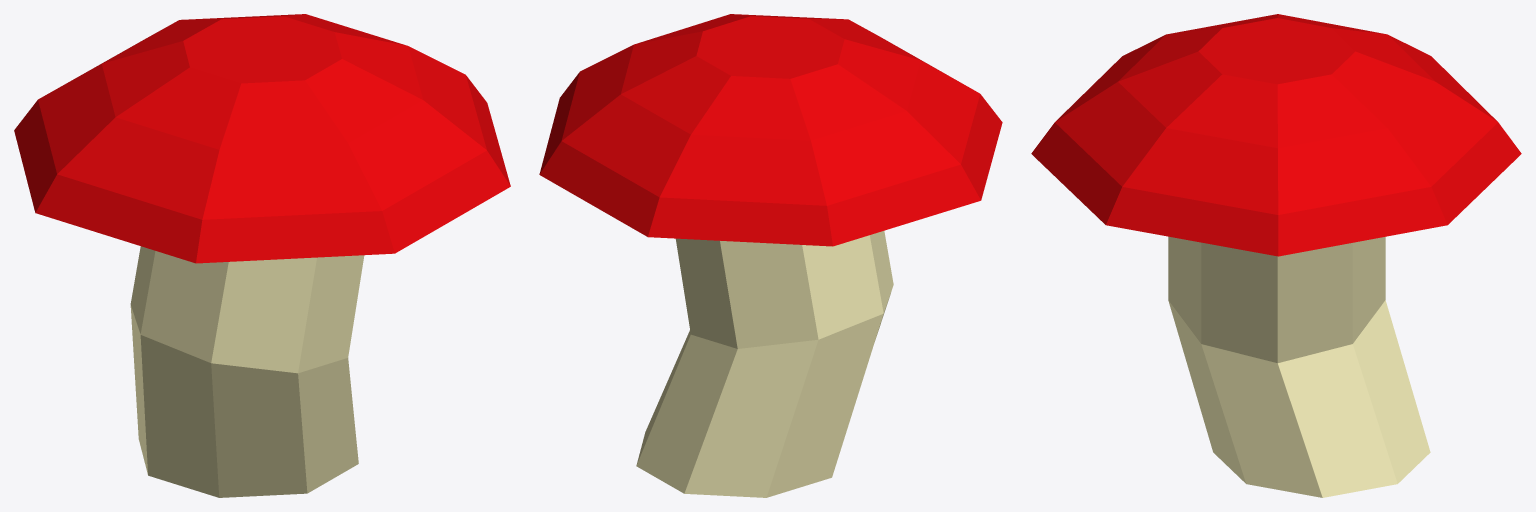
The model's file is Lowpoly_Mushroom_Red_01.fbx.
3 renders of one model, left to right at view 1: azimuth 30°, elevation 25°; view 2: azimuth 150°, elevation 25°; view 3: azimuth 270°, elevation 25°, orthographic. The views are drawn at different scales.
Parts seen in each view (by area): view 1: Cube.001; view 2: Cube.001; view 3: Cube.001.
Boxes of the visible parts, box(x1,y1,x2,y2) form: Cube.001: box(14, 14, 510, 497); Cube.001: box(539, 14, 1002, 497); Cube.001: box(1031, 14, 1521, 497).
Bounding box in the file's own units: 386 × 344 × 386.
